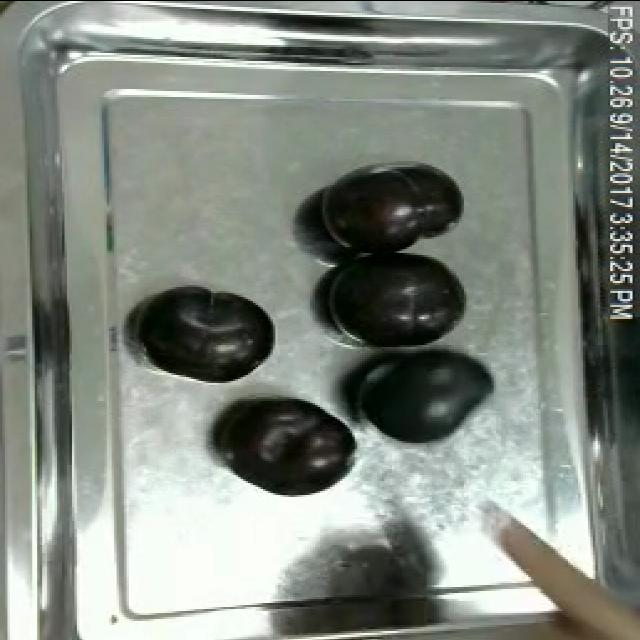Fruit: (345, 338, 506, 456), (211, 388, 365, 502), (317, 242, 473, 352), (312, 162, 468, 260), (137, 280, 280, 384)
